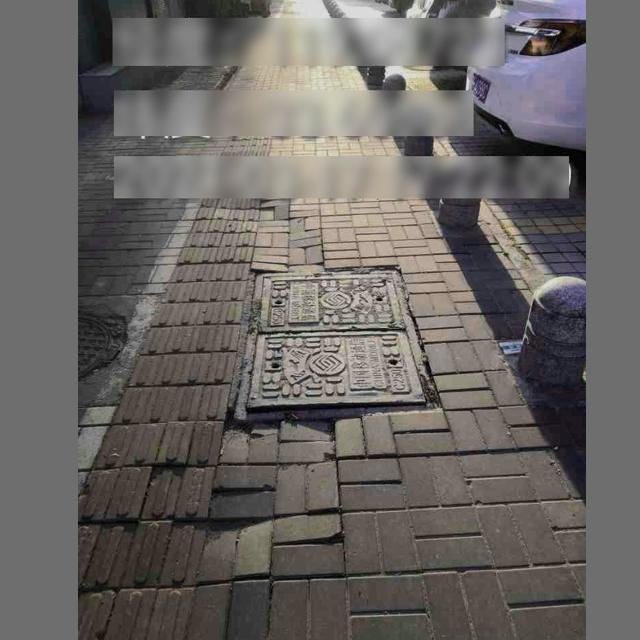good: (231, 270, 436, 418)
